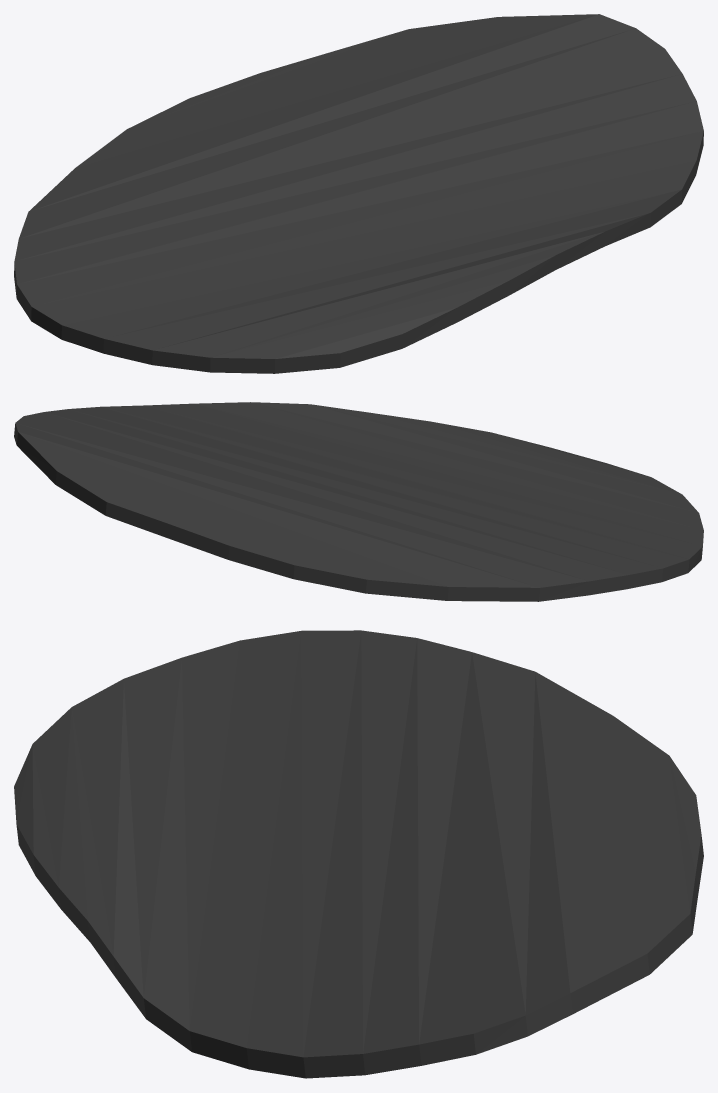
The model's file is l1_vertebral_foramen.glb.
3 renders of one model, top to bottom at view 1: azimuth 30°, elevation 25°; view 2: azimuth 150°, elevation 25°; view 3: azimuth 270°, elevation 25°, orthographic. The views are drawn at different scales.
Parts seen in each view (by area): view 1: l1_vertebral_foramen; view 2: l1_vertebral_foramen; view 3: l1_vertebral_foramen.
Boxes of the visible parts, <box> form: l1_vertebral_foramen: <box>14,14,703,373</box>; l1_vertebral_foramen: <box>14,402,703,601</box>; l1_vertebral_foramen: <box>14,630,703,1078</box>.
Size of the model in its own units: 10.59 by 1.29 by 6.75.
Materials: 1 (1 with a texture image).
